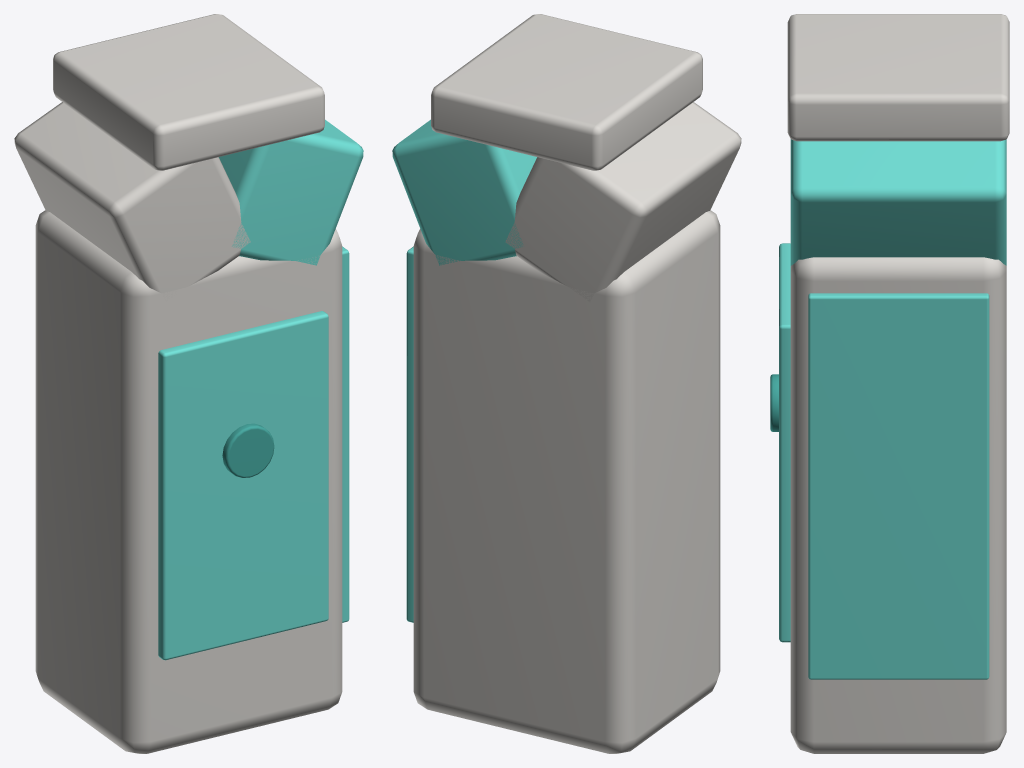
File: milk_carton.glb
3 views of the same model, side by side, from view 1: azimuth 30°, elevation 25°; view 2: azimuth 150°, elevation 25°; view 3: azimuth 270°, elevation 25° (orthographic). The views are drawn at different scales.
Visible parts, largest first — view 1: Cream, Tint_Mint, Mint, MintDark; view 2: Cream, Mint; view 3: Mint, Cream, Tint_Mint, MintDark.
Part boxes in pixels (x1=…): Cream: x1=14, y1=14, x2=342, y2=753; Tint_Mint: x1=158, y1=311, x2=328, y2=660; Mint: x1=219, y1=119, x2=363, y2=622; MintDark: x1=222, y1=423, x2=274, y2=477; Cream: x1=413, y1=14, x2=741, y2=753; Mint: x1=392, y1=119, x2=536, y2=622; Mint: x1=790, y1=139, x2=1006, y2=679; Cream: x1=787, y1=14, x2=1009, y2=753; Tint_Mint: x1=779, y1=243, x2=790, y2=642; MintDark: x1=770, y1=374, x2=778, y2=431.
Bounding box in the file's own units: 0.1033 × 0.247 × 0.082.
